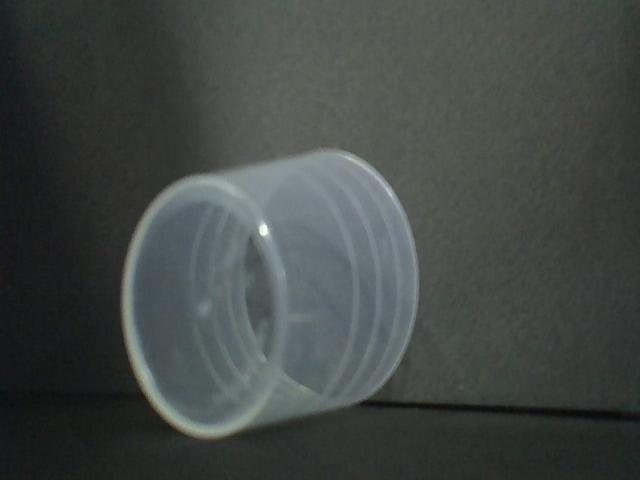cup: (117, 148, 423, 443)
